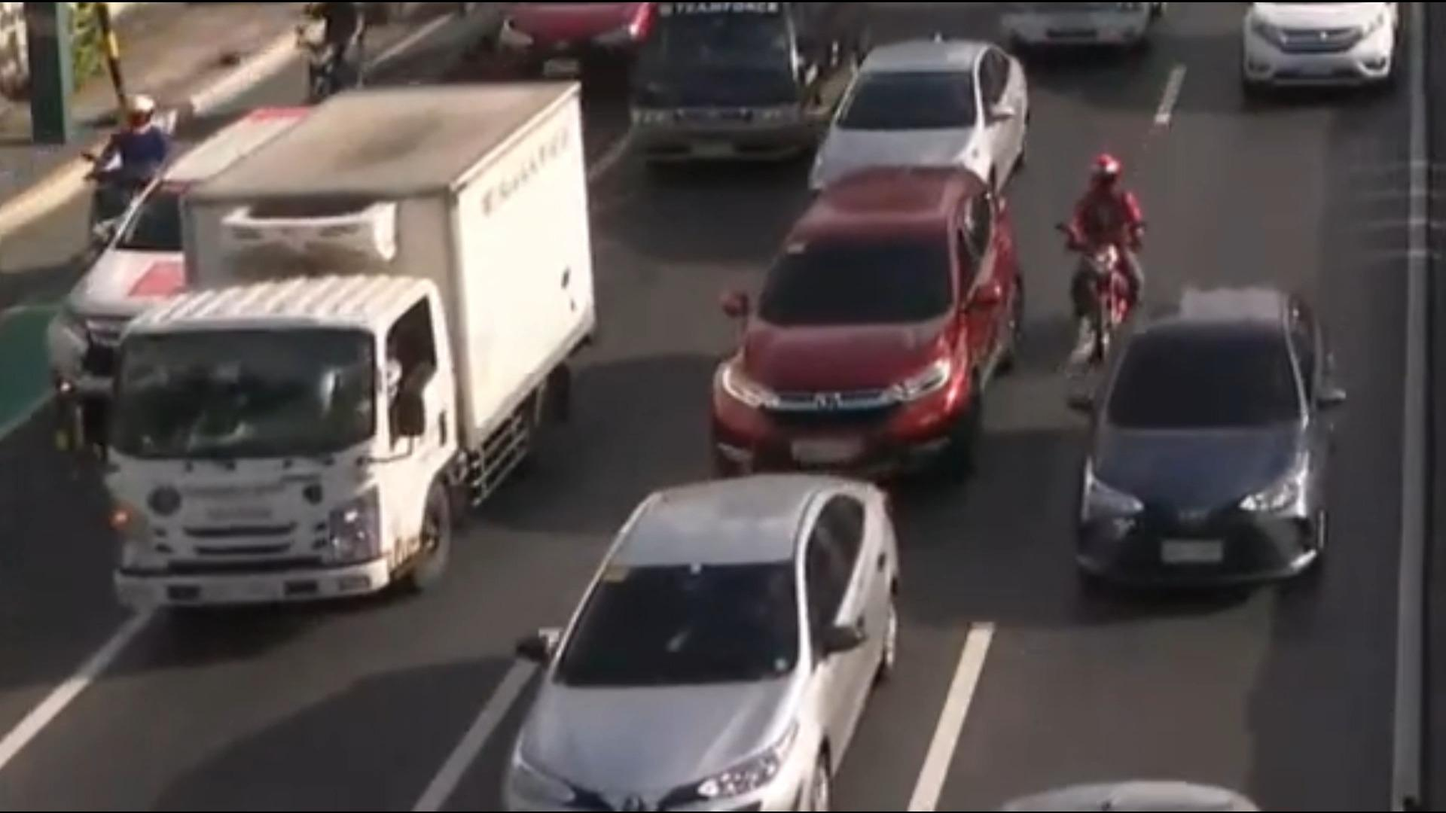Motorcycle: (1047, 152, 1150, 373), (75, 87, 179, 269)
SUV: (706, 179, 1020, 484), (1233, 0, 1401, 113)
Sedan: (501, 480, 902, 813), (1068, 292, 1341, 585), (806, 51, 1037, 198)
Truck: (111, 79, 601, 608)
Van: (625, 0, 864, 175)
